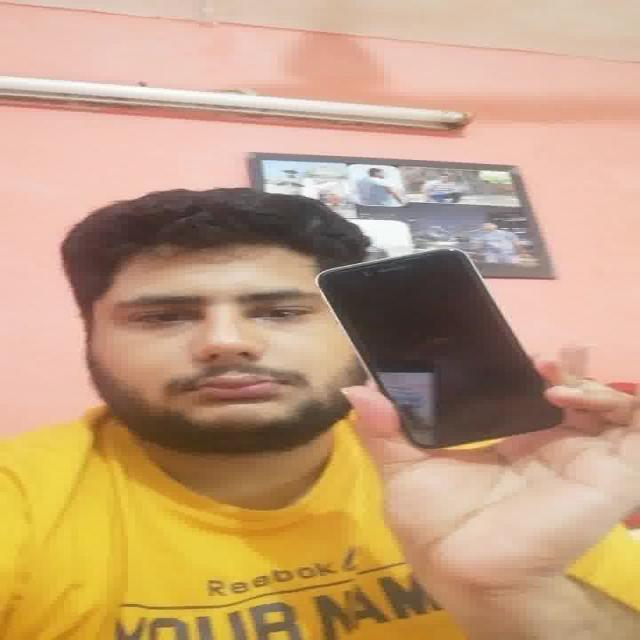Phone: (316, 248, 566, 453)
